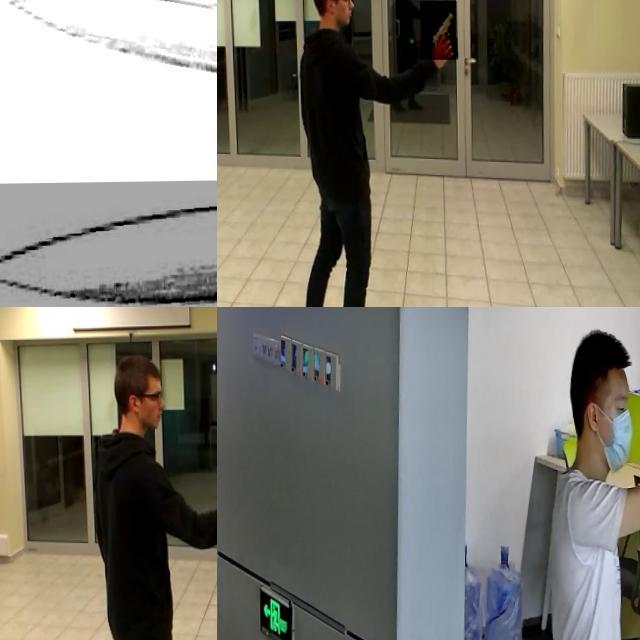-: (0, 180, 217, 307), (0, 0, 217, 120), (78, 0, 217, 41)
gun-knife-thesis - v11 Yolov5 augmented: (418, 2, 456, 61)
